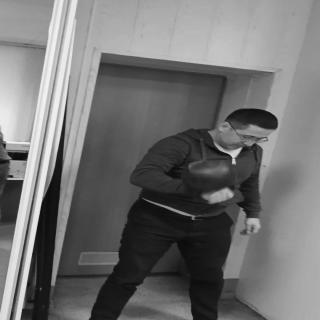girya: (187, 162, 240, 203)
